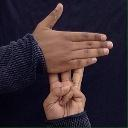hand: (30, 2, 114, 73), (42, 69, 86, 121)
